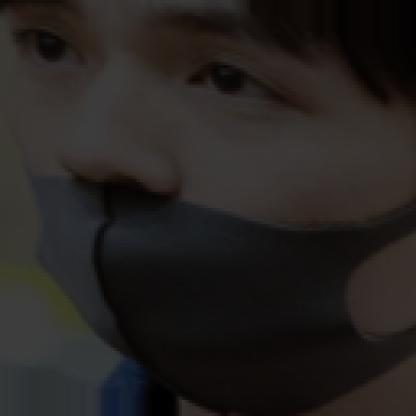mask_weared_incorrect: (0, 0, 398, 380)
